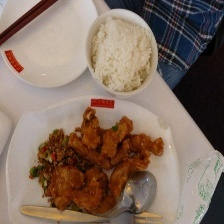rice: (90, 18, 151, 91)
